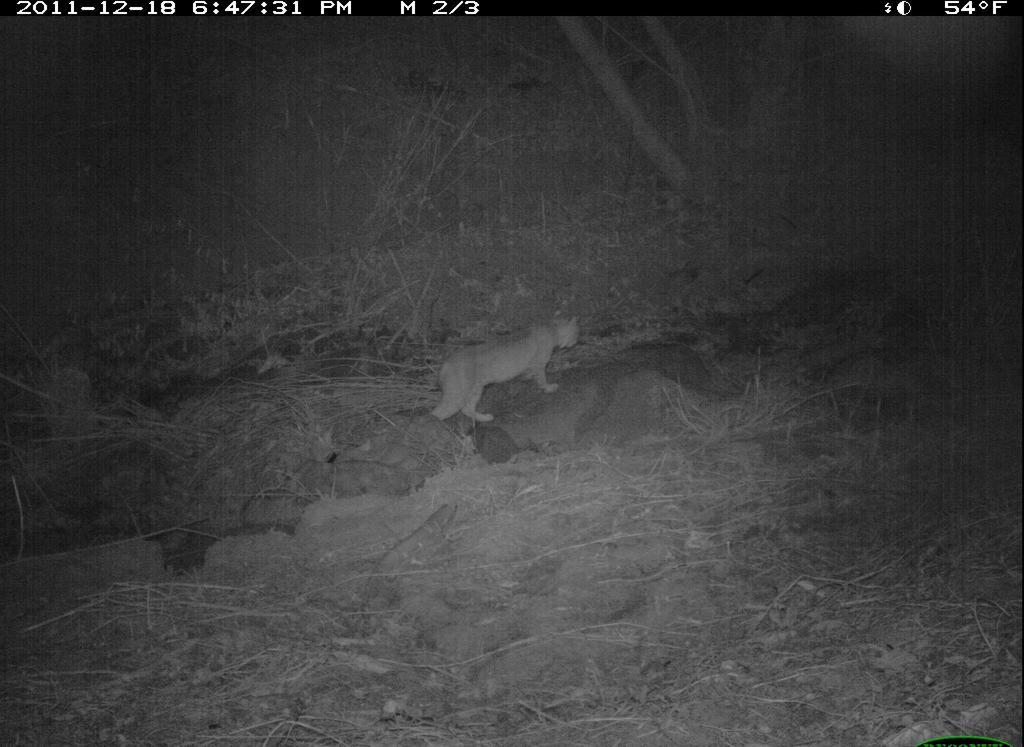bobcat: (427, 314, 585, 428)
